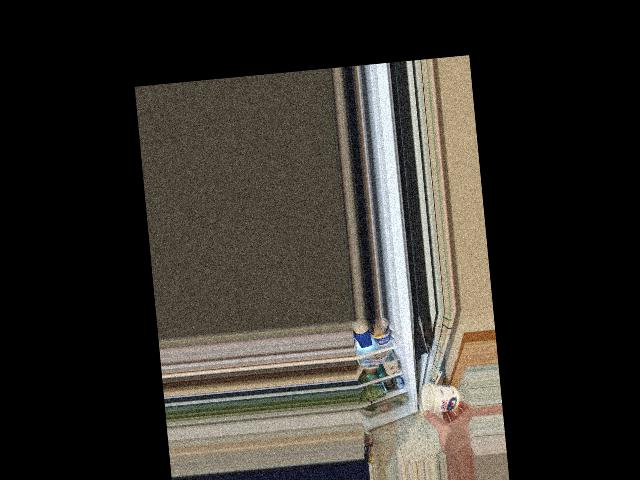cotage: (419, 380, 463, 413)
